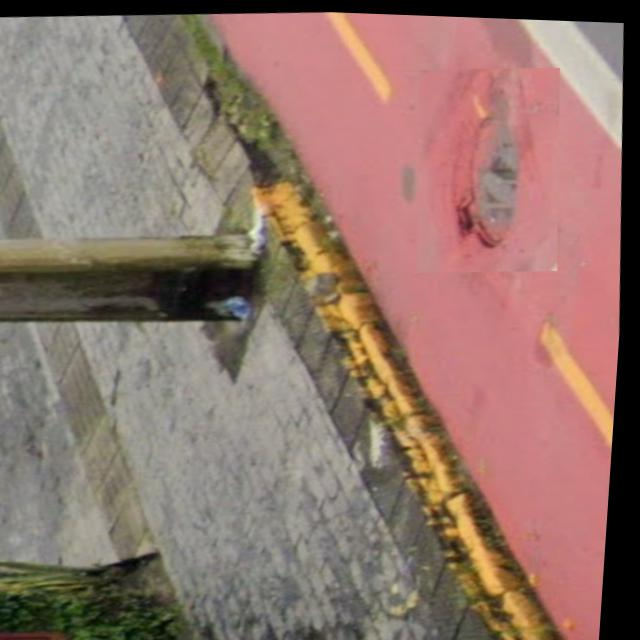Bueiro: (411, 58, 572, 273)
